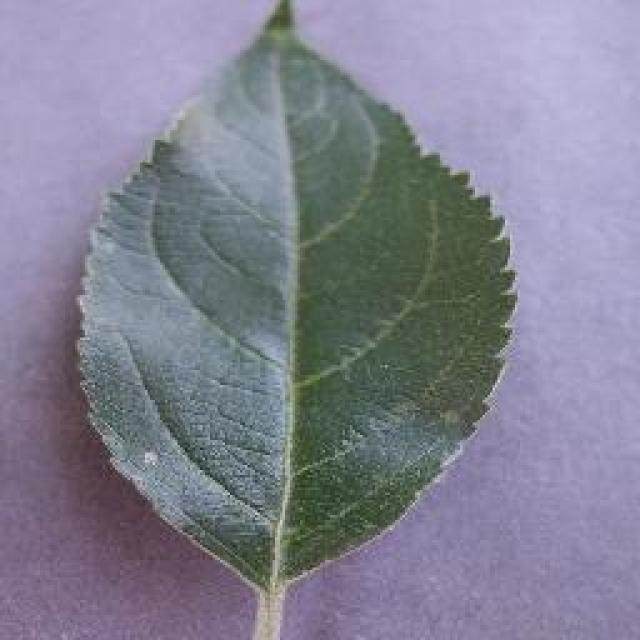apple healthy: (70, 0, 520, 638)
